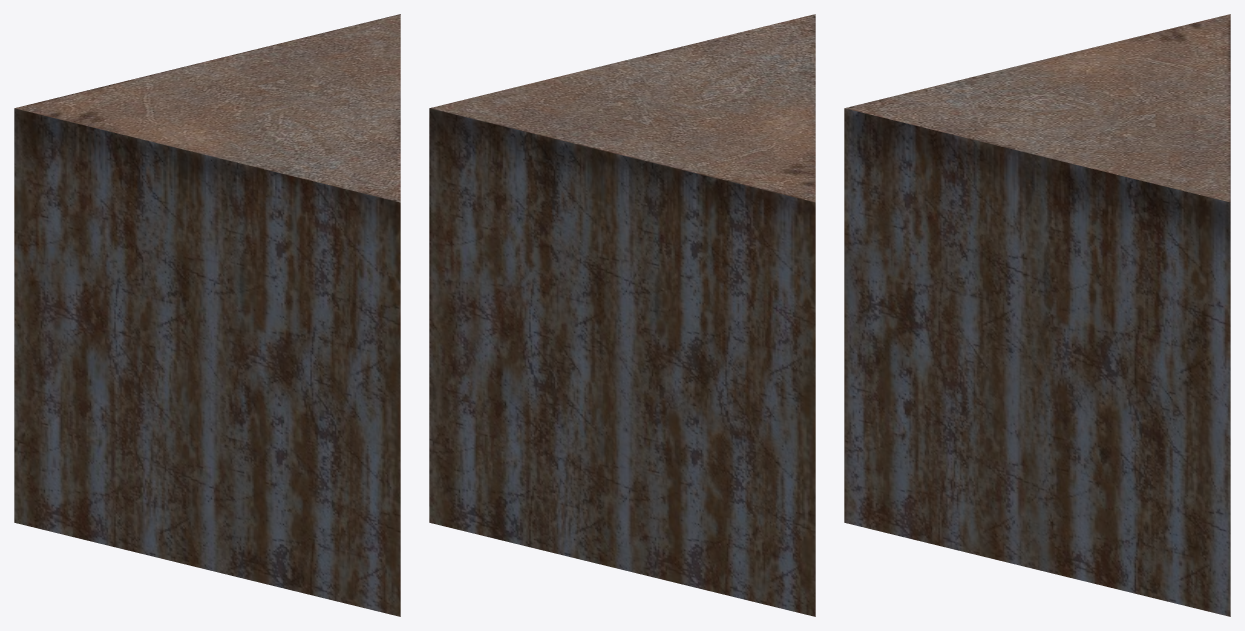
File: metal_foundation_triangle_high_textured.glb
The picture shows the model from 3 angles, left to right: view 1: azimuth 30°, elevation 25°; view 2: azimuth 150°, elevation 25°; view 3: azimuth 270°, elevation 25°; orthographic projection.
Parts seen in each view (by area): view 1: Circle; view 2: Circle; view 3: Circle.
Part boxes in pixels (x1,y1,x2,y2): Circle: (14, 14, 400, 616); Circle: (429, 14, 815, 616); Circle: (844, 14, 1230, 616).
Bounding box in the file's own units: 2 × 2.05 × 1.73.
1 material, 1 textured.
